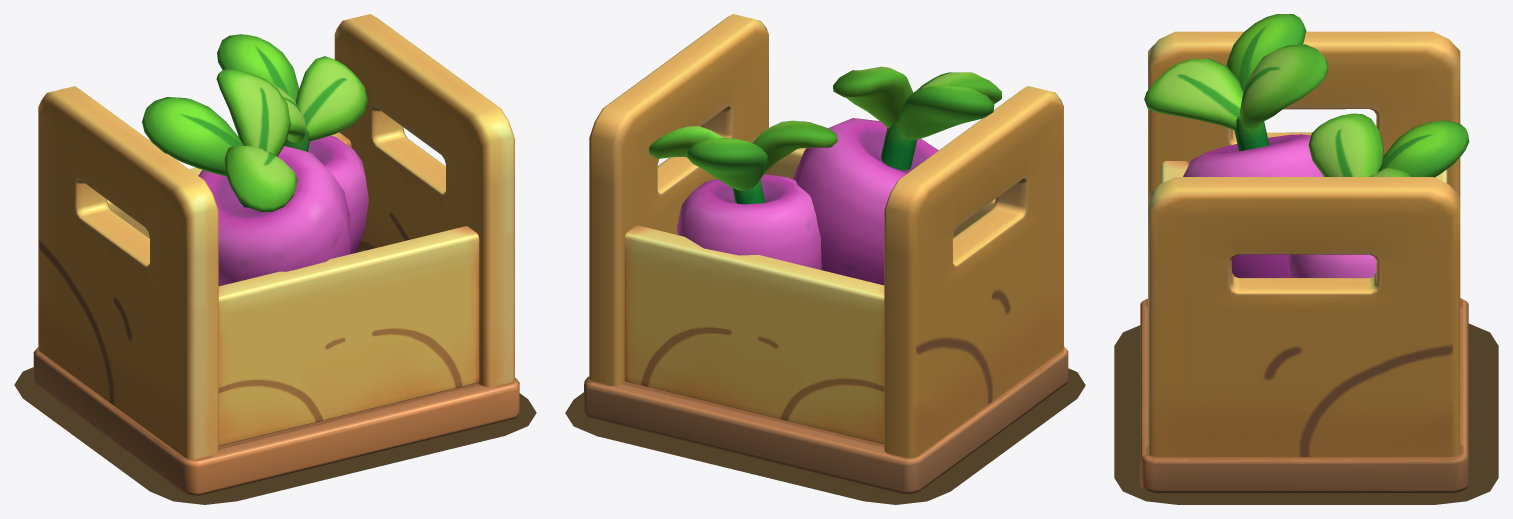
File: CarrotP_L03.fbx
The picture shows the model from 3 angles, left to right: view 1: azimuth 30°, elevation 25°; view 2: azimuth 150°, elevation 25°; view 3: azimuth 270°, elevation 25°; orthographic projection.
Visible parts, largest first — view 1: WT_CarrotPL3_body2, WT_CarrotPL3_body, WT_CarrotPL3_SDW; view 2: WT_CarrotPL3_body2, WT_CarrotPL3_body, WT_CarrotPL3_SDW; view 3: WT_CarrotPL3_body2, WT_CarrotPL3_body, WT_CarrotPL3_SDW.
Part boxes in pixels (x1=…): WT_CarrotPL3_body2: x1=33, y1=14, x2=519, y2=495; WT_CarrotPL3_body: x1=142, y1=34, x2=368, y2=286; WT_CarrotPL3_SDW: x1=14, y1=367, x2=536, y2=504; WT_CarrotPL3_body2: x1=584, y1=14, x2=1068, y2=494; WT_CarrotPL3_body: x1=649, y1=66, x2=1001, y2=285; WT_CarrotPL3_SDW: x1=565, y1=368, x2=1085, y2=504; WT_CarrotPL3_body2: x1=1140, y1=31, x2=1468, y2=492; WT_CarrotPL3_body: x1=1144, y1=14, x2=1469, y2=277; WT_CarrotPL3_SDW: x1=1114, y1=323, x2=1498, y2=504.
Size of the model in its own units: 102 by 87.01 by 88.98.
3 materials, 2 textured.
